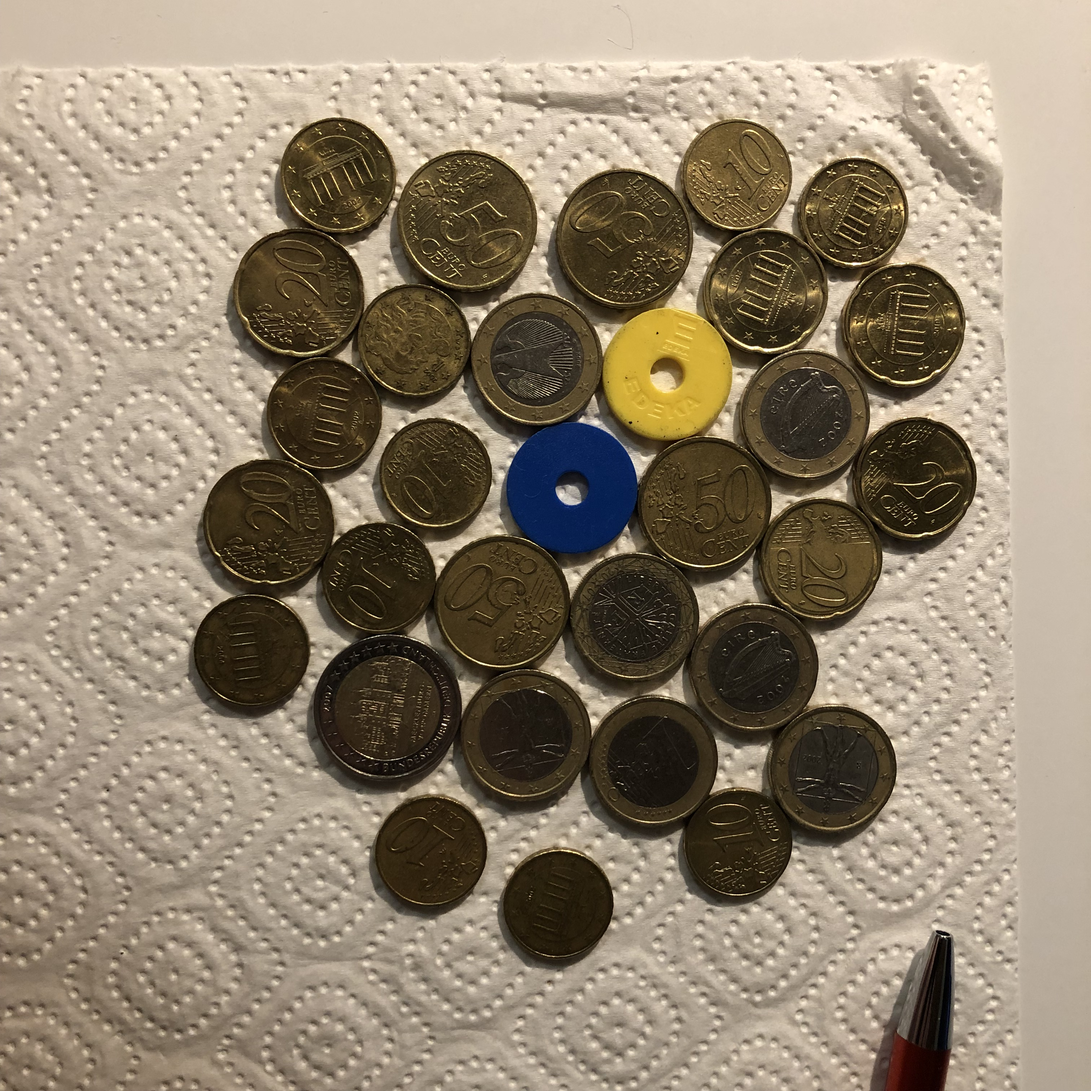1 euro: (585, 696, 719, 831), (457, 668, 591, 803), (567, 549, 701, 684), (737, 345, 871, 480), (470, 292, 604, 427), (689, 604, 823, 738), (767, 704, 897, 834)
10 cent: (276, 115, 398, 233), (265, 353, 387, 471), (373, 416, 495, 534), (371, 793, 493, 911), (496, 846, 618, 964), (677, 784, 799, 902), (789, 152, 911, 270), (353, 284, 474, 402), (316, 516, 437, 634), (194, 593, 315, 711), (677, 116, 798, 233)
2 euro: (313, 632, 462, 786)
20 cent: (230, 230, 367, 361), (199, 457, 335, 588), (699, 227, 835, 358), (834, 259, 970, 390), (846, 415, 982, 546), (754, 493, 890, 624)
50 cent: (554, 167, 696, 308), (398, 150, 540, 291), (434, 535, 568, 668), (639, 437, 773, 570)
